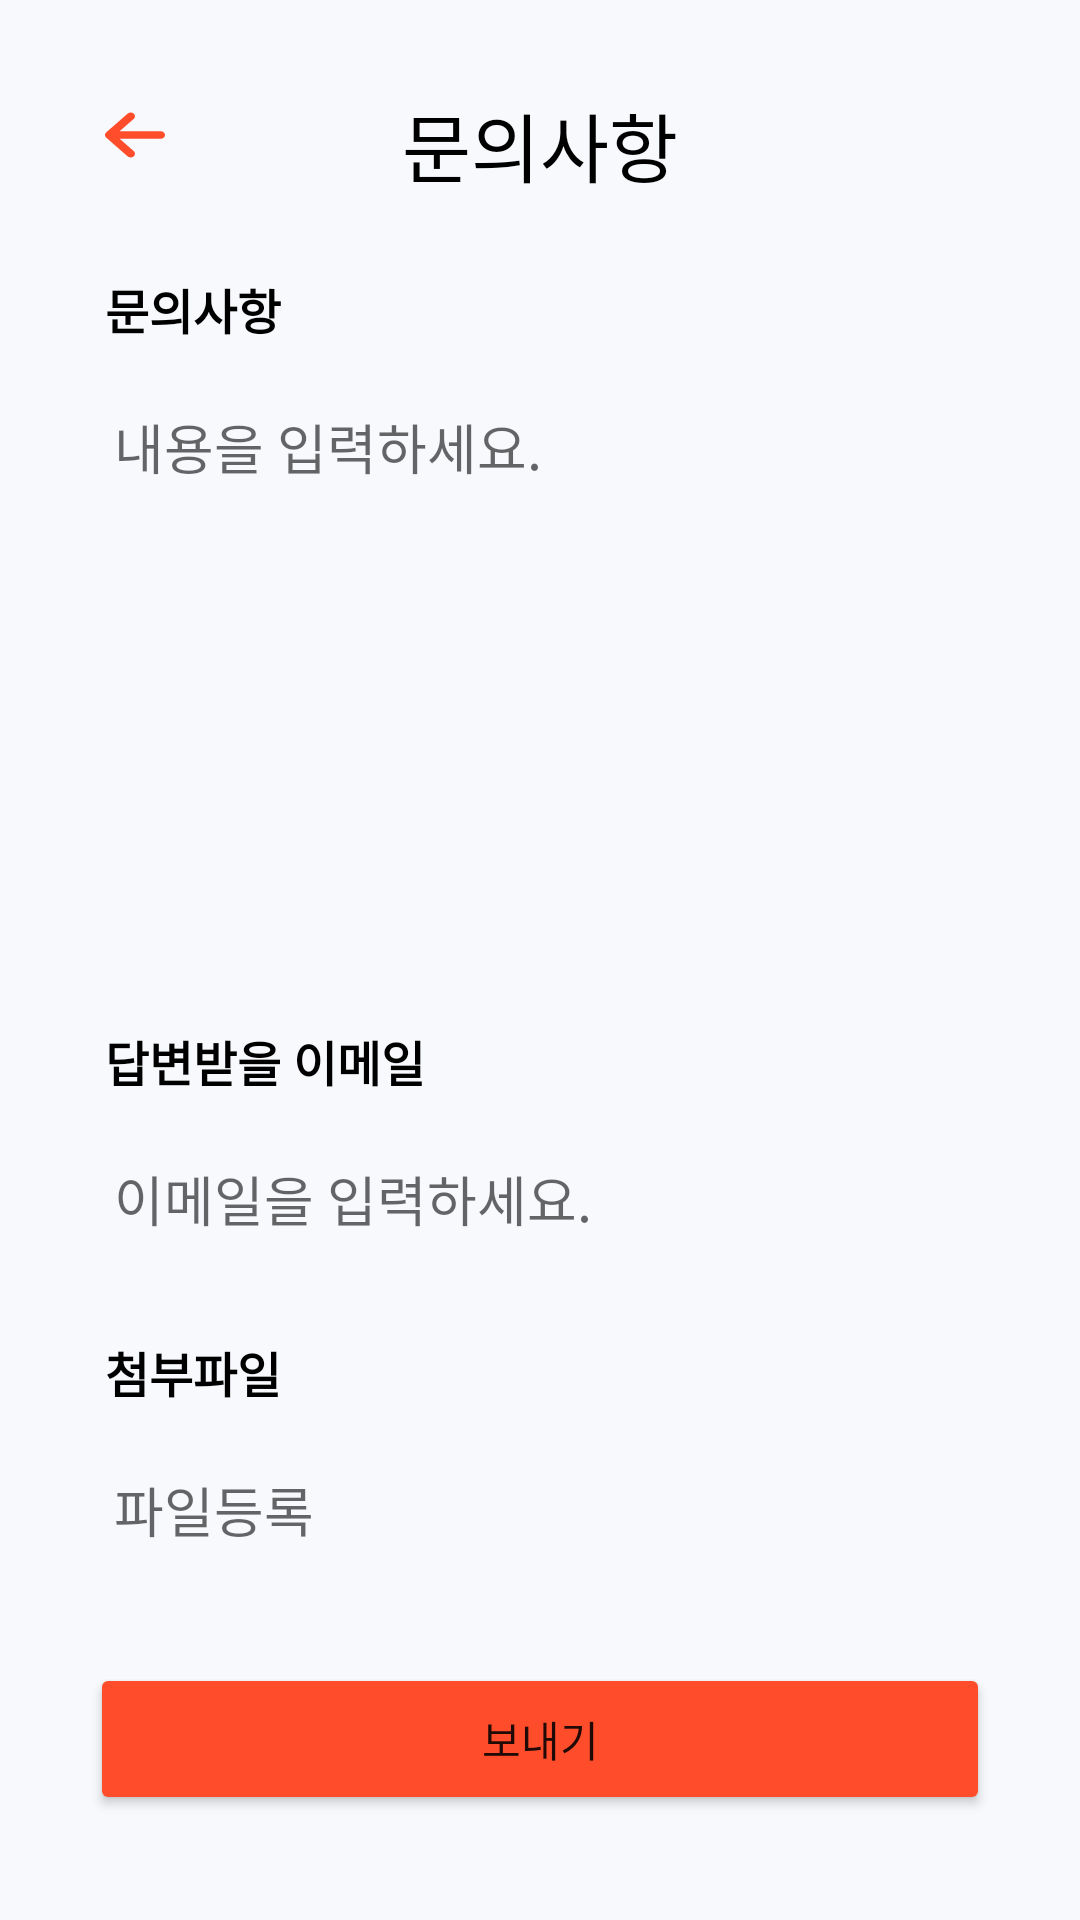

Icon bounding boxes for this 1080 x 1920 phone screenshot, format (x1, y1, x2, y2):
back key: (105, 112, 165, 158)
